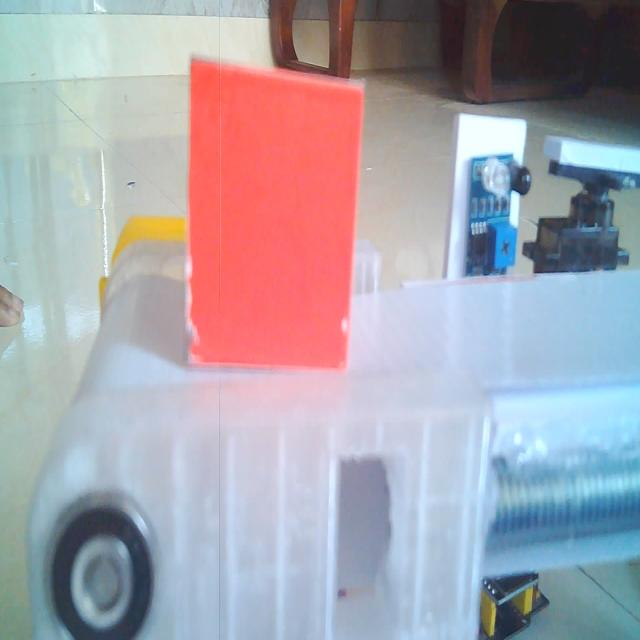red: (182, 46, 362, 376)
